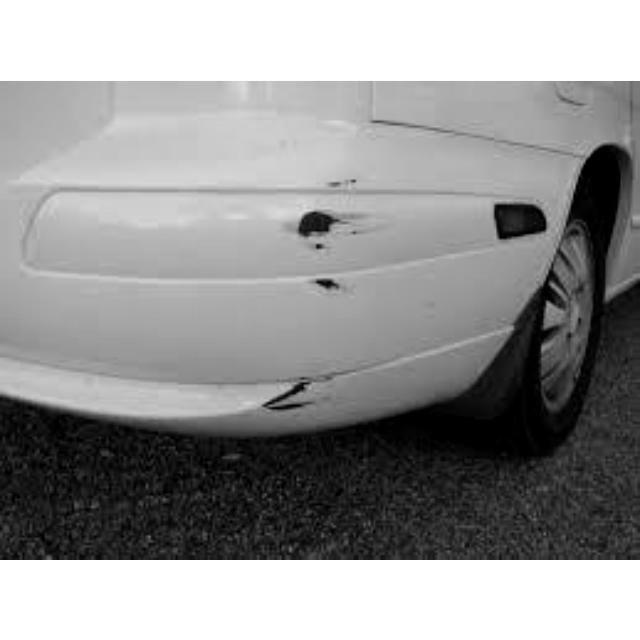rear-bumper-dent: (164, 117, 475, 435)
